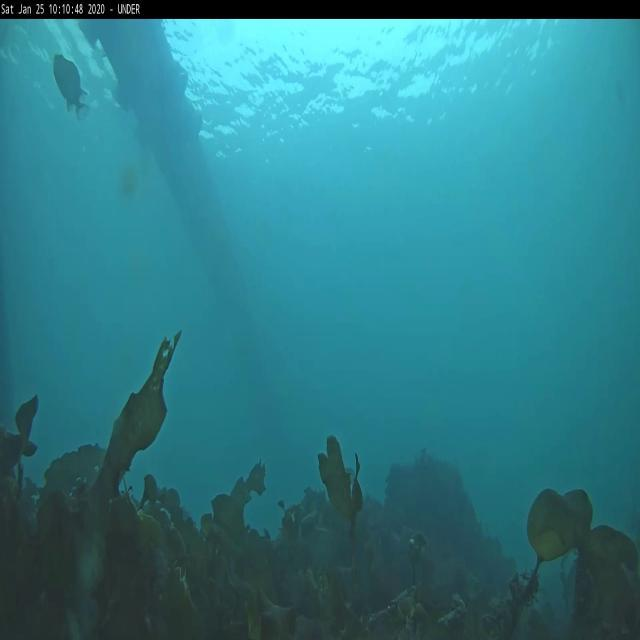fish: (54, 55, 90, 123)
